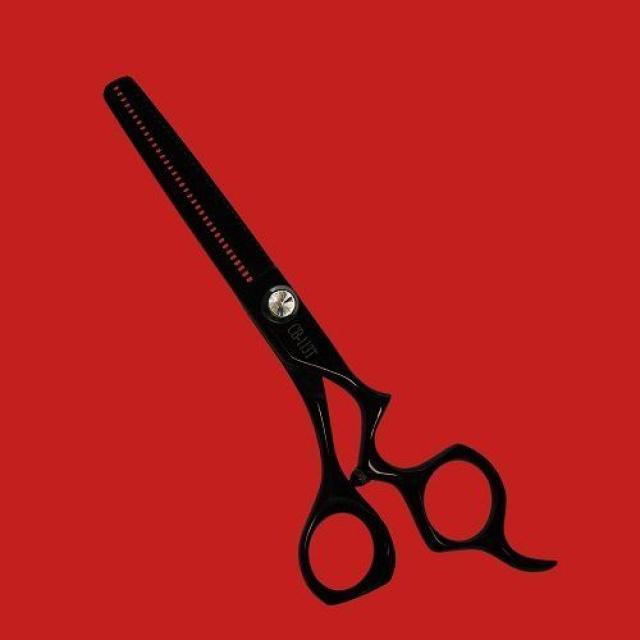scissor: (104, 74, 560, 606)
